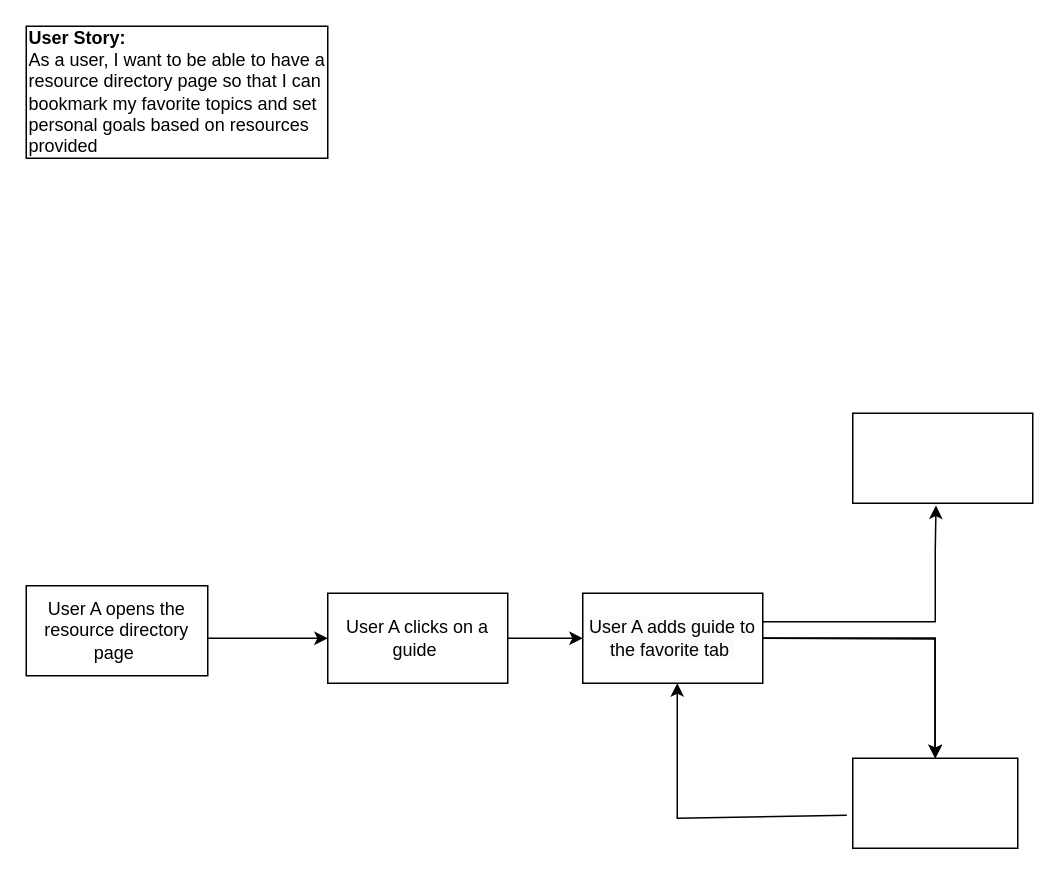
Image size: 1059x875. Some labels were removed from this diagram. The shapes that lost their labels are listed below. From the top down, each one's centre as x and y in pixels, then its label:
the point at 942,457: Success: Guide propagated to favorites tab
the point at 934,802: Failure: No propagation to favorites tab
